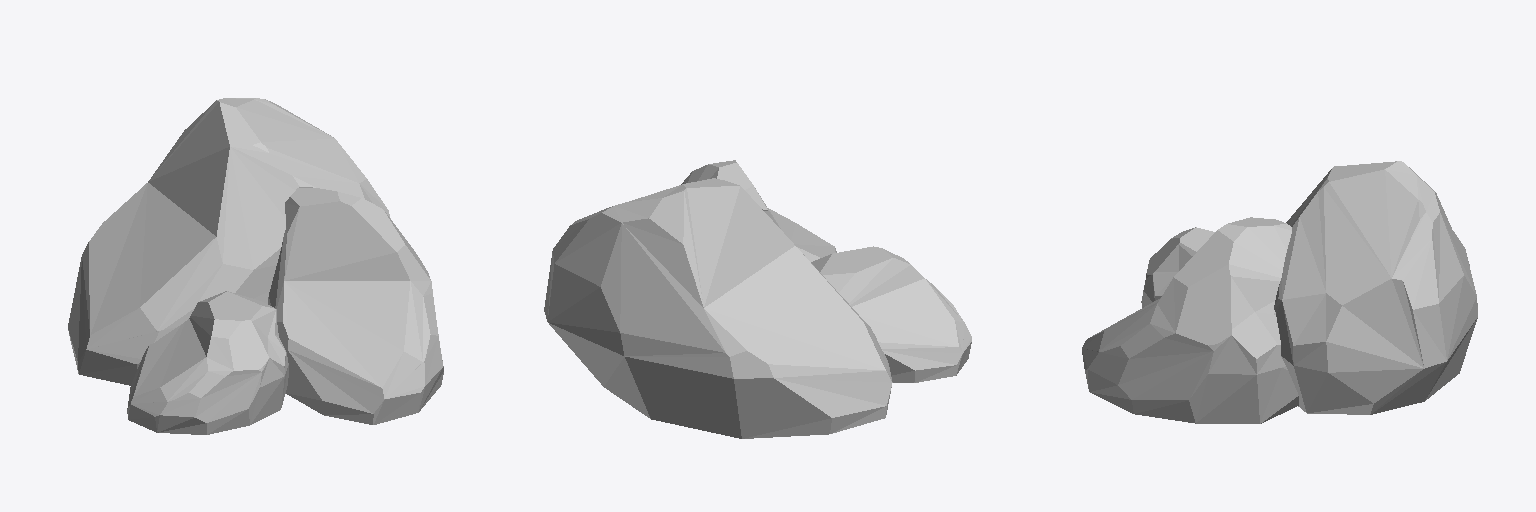
Rendered from Rocks_3.obj.
The picture shows the model from 3 angles: view 1: azimuth 30°, elevation 25°; view 2: azimuth 150°, elevation 25°; view 3: azimuth 270°, elevation 25°; orthographic projection.
Parts seen in each view (by area): view 1: Rocks_3_Rocks_3.001; view 2: Rocks_3_Rocks_3.001; view 3: Rocks_3_Rocks_3.001.
Part boxes in pixels (x1,y1,x2,y2): Rocks_3_Rocks_3.001: (68,98,443,434); Rocks_3_Rocks_3.001: (544,160,971,438); Rocks_3_Rocks_3.001: (1082,161,1477,423).
Bounding box in the file's own units: 2.32 × 1.46 × 2.49.